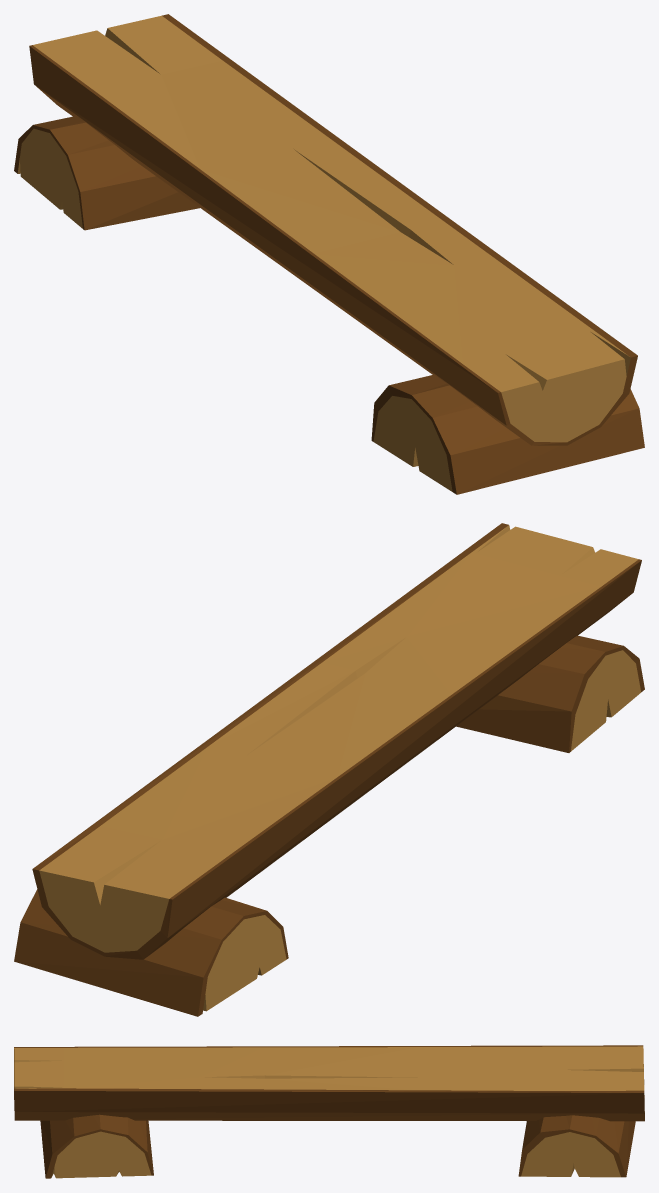
Rendered from logBench.gltf.
3 renders of one model, top to bottom at view 1: azimuth 30°, elevation 25°; view 2: azimuth 150°, elevation 25°; view 3: azimuth 270°, elevation 25°, orthographic. The views are drawn at different scales.
Parts seen in each view (by area): view 1: Cylinder, Cylinder.001, Cylinder.002; view 2: Cylinder, Cylinder.002, Cylinder.001; view 3: Cylinder, Cylinder.001, Cylinder.002.
Boxes of the visible parts, <box> form: Cylinder: <box>29,14,637,445</box>; Cylinder.001: <box>371,374,644,494</box>; Cylinder.002: <box>14,116,199,230</box>; Cylinder: <box>32,523,641,959</box>; Cylinder.002: <box>14,889,288,1016</box>; Cylinder.001: <box>456,635,644,752</box>; Cylinder: <box>14,1045,644,1121</box>; Cylinder.001: <box>40,1114,153,1178</box>; Cylinder.002: <box>518,1115,635,1177</box>.
Bounding box in the file's own units: 2.97 × 1.64 × 11.97.
